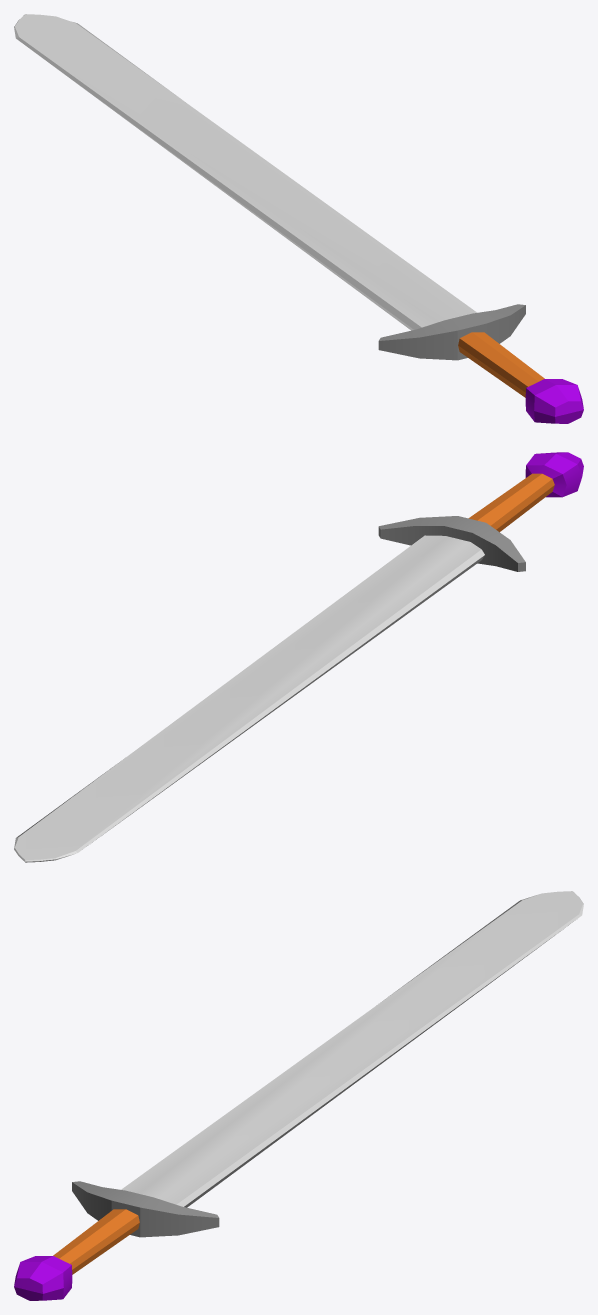
The model's file is scene_EYaM2MwbWg.glb.
3 views of the same model, one above another, from view 1: azimuth 30°, elevation 25°; view 2: azimuth 150°, elevation 25°; view 3: azimuth 330°, elevation 25° (orthographic).
Parts seen in each view (by area): view 1: Sword_Iron_blade, Sword_Iron_guard, Sword_Wood_handle, Sword_Pommel; view 2: Sword_Iron_blade, Sword_Iron_guard, Sword_Wood_handle, Sword_Pommel; view 3: Sword_Iron_blade, Sword_Iron_guard, Sword_Wood_handle, Sword_Pommel.
Part boxes in pixels (x1,y1,x2,y2): Sword_Iron_blade: [14, 14, 476, 330]; Sword_Iron_guard: [378, 304, 525, 360]; Sword_Wood_handle: [458, 332, 544, 397]; Sword_Pommel: [525, 379, 583, 423]; Sword_Iron_blade: [14, 535, 484, 862]; Sword_Iron_guard: [378, 516, 525, 571]; Sword_Wood_handle: [468, 473, 554, 532]; Sword_Pommel: [525, 452, 583, 497]; Sword_Iron_blade: [121, 891, 583, 1207]; Sword_Iron_guard: [72, 1181, 219, 1237]; Sword_Wood_handle: [53, 1209, 139, 1274]; Sword_Pommel: [14, 1256, 72, 1300].
Bounding box in the file's own units: 0.1193 × 0.0291 × 0.7637.
